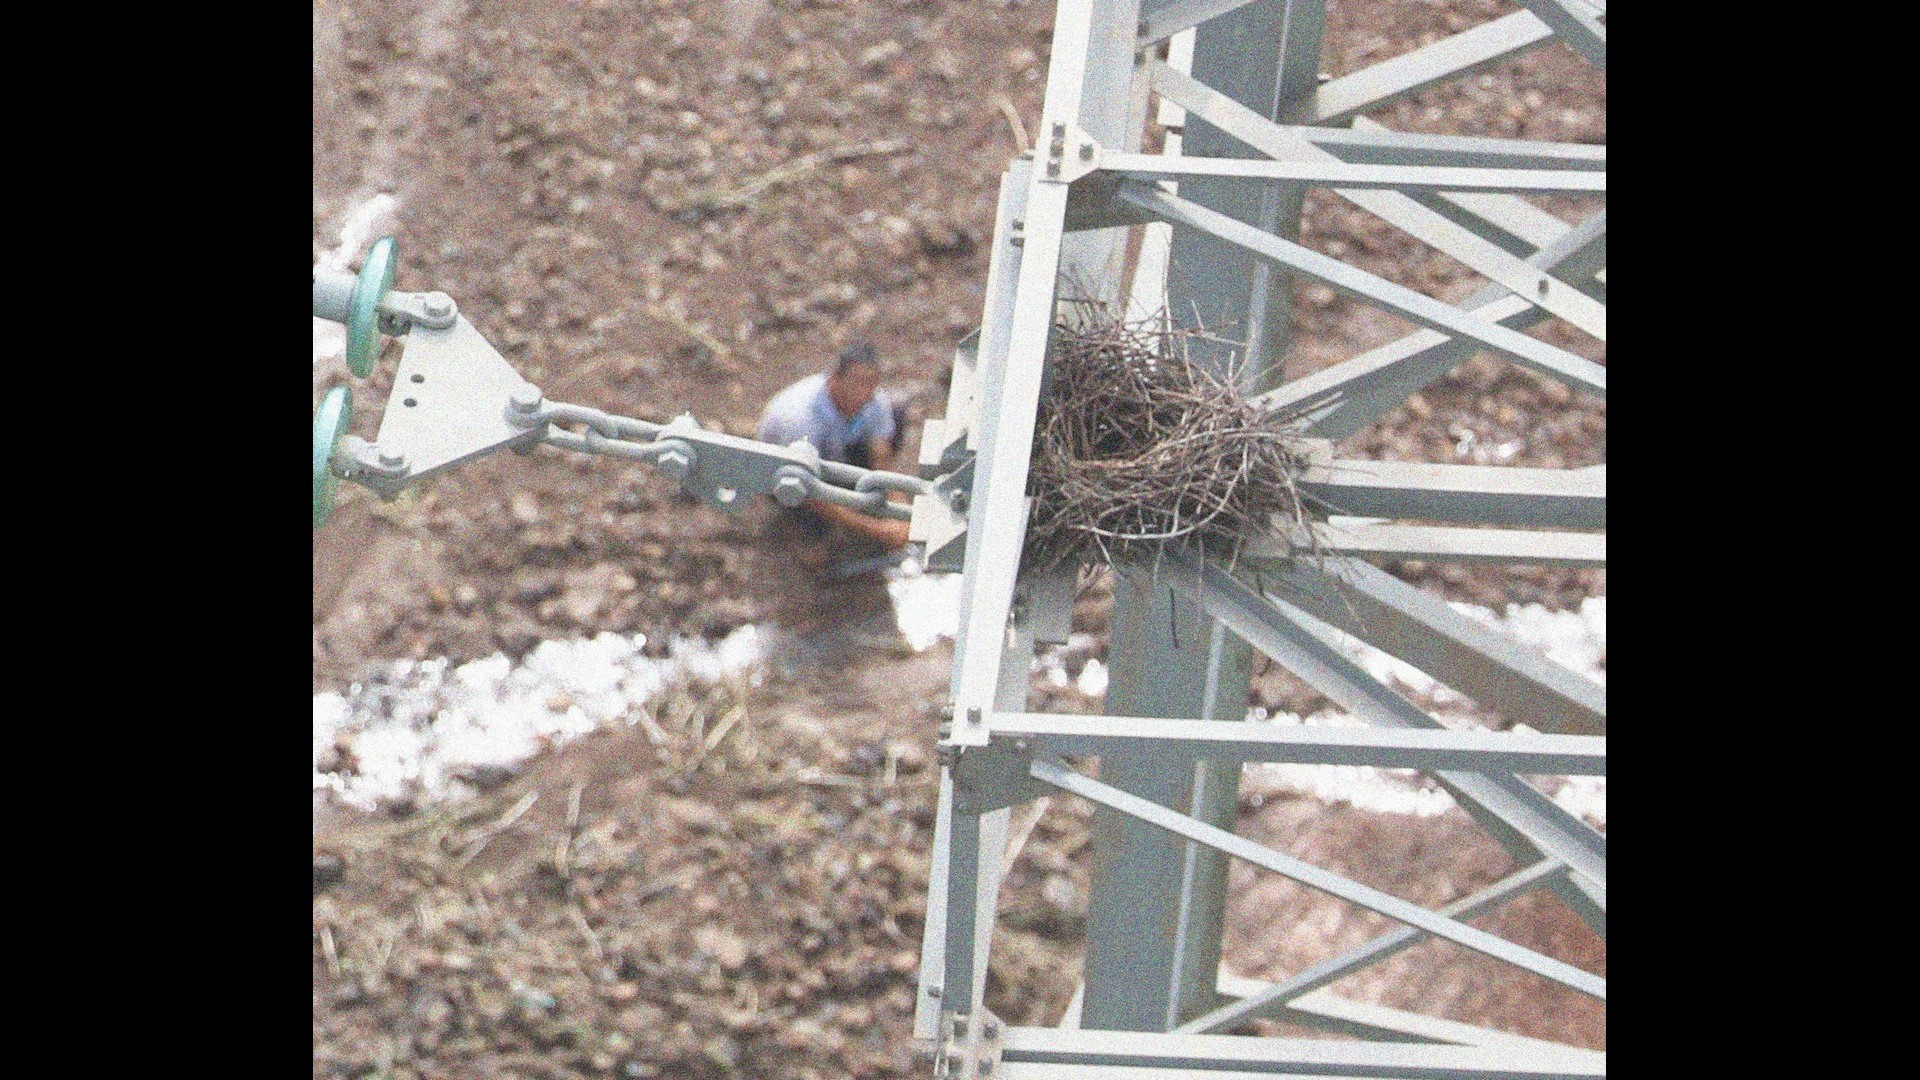niaowo: (1014, 286, 1346, 607)
